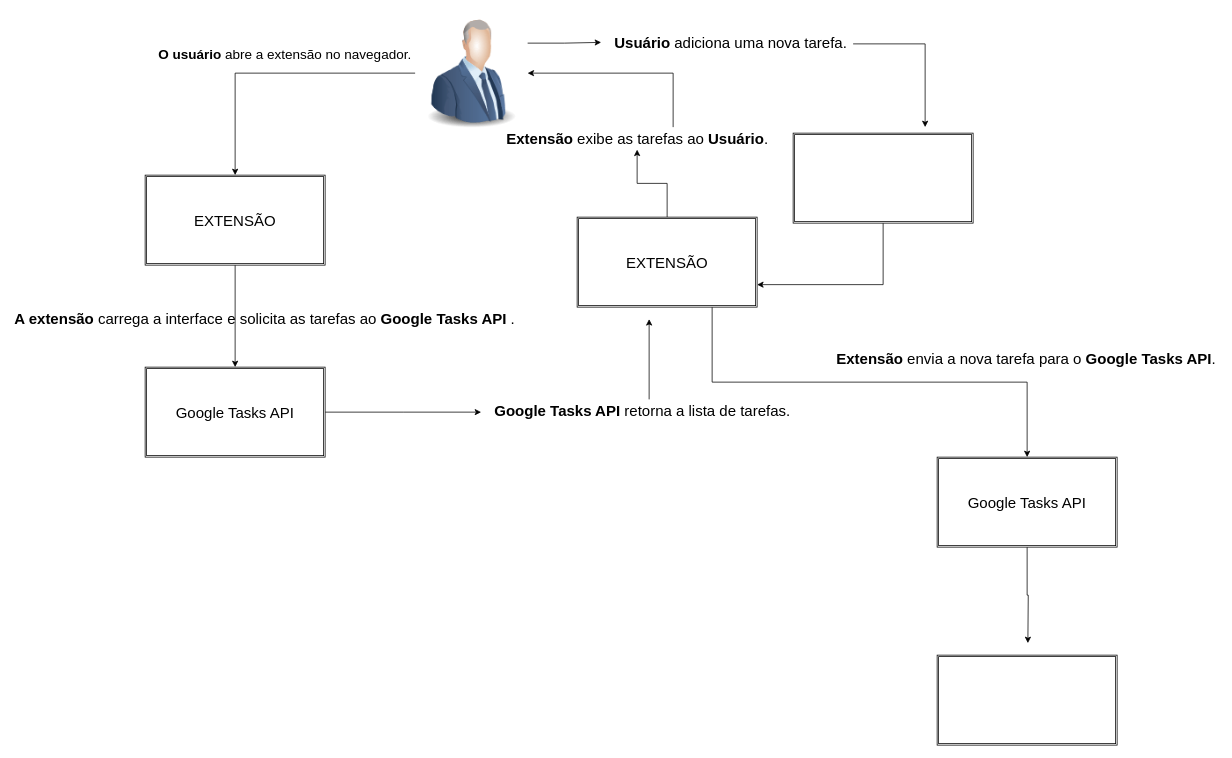
Some shapes in this 1232 by 758 pixel diagram are drawn without their labels. The shapes that lost their labels are listed below. From the top down, each one's centre as x and y in pixels, then its label:
pixel 882 177: TAREFA
pixel 1026 699: BANCO DE DADOS
